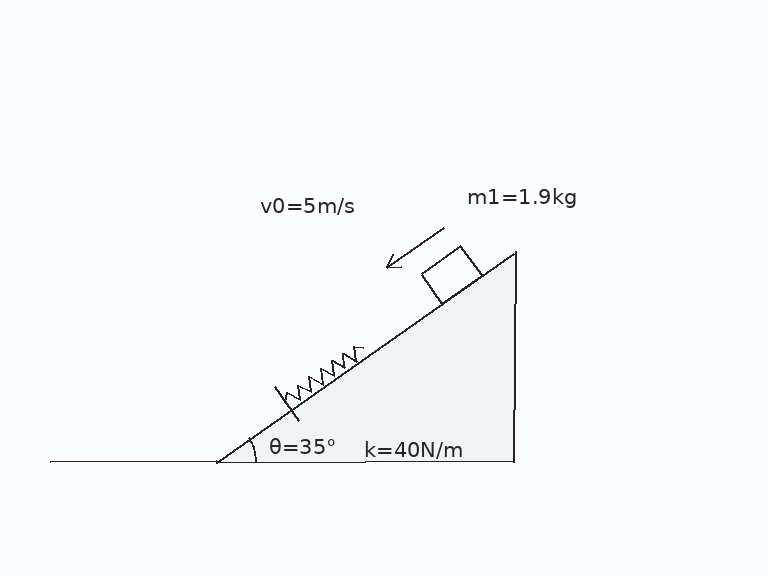block: (419, 244, 483, 305)
ramp: (214, 250, 517, 463)
spring: (284, 343, 365, 403)
